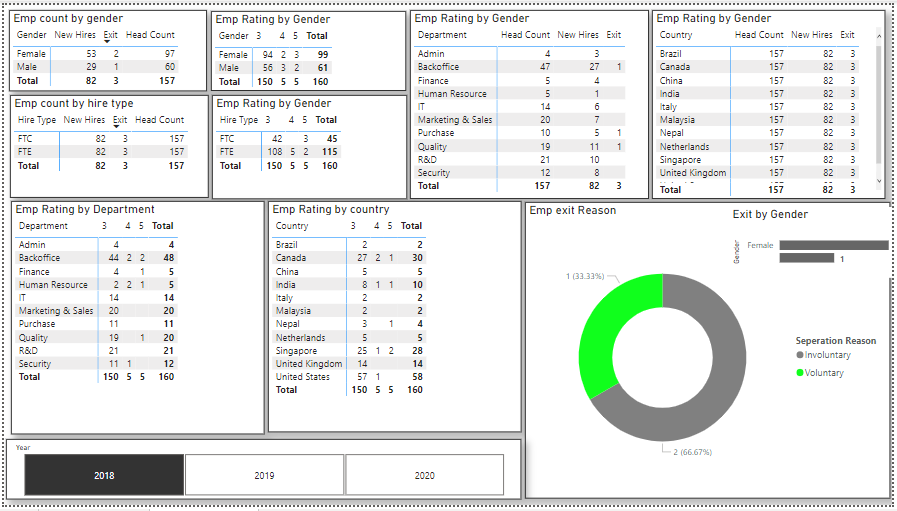

Layout of this report page (visuals, bound fields, positions):
{"tool":"powerbi","page":{"name":"other details","canvas":[1280,720],"ordinal":2},"visuals":[{"type":"pivotTable","title":"Emp count by gender","fields":{"Rows":["Employee Data.Gender"],"Values":["All Measures.New Hires","All Measures.Exit","All Measures.Head Count"]},"box":[7.2,7.2,285.1,116.6],"z":0},{"type":"donutChart","title":"Emp exit Reason","fields":{"Category":["Employee Data.Seperation Reason"],"Y":["All Measures.Exit"]},"box":[750.9,283.9,525.8,426.7],"z":0,"group":"g1"},{"type":"pivotTable","title":"Emp count by hire type","fields":{"Values":["All Measures.New Hires","All Measures.Exit","All Measures.Head Count"],"Rows":["Compensation Data.Hire Type"]},"box":[8.4,129.3,285.6,147.8],"z":1000},{"type":"barChart","fields":{"Category":["Employee Data.Gender"],"Y":["All Measures.Exit"]},"box":[1033.1,292.5,234.7,102.2],"z":1000,"group":"g1"},{"type":"pivotTable","title":"Emp Rating by Gender","fields":{"Rows":["Compensation Data.Gender"],"Columns":["Compensation Data.Employee Rating"],"Values":["CountNonNull(Compensation Data.Emp Id)"]},"box":[298.1,8.6,280.8,115.2],"z":2000},{"type":"pivotTable","title":"Emp Rating by Gender","fields":{"Columns":["Compensation Data.Employee Rating"],"Values":["CountNonNull(Compensation Data.Emp Id)"],"Rows":["Compensation Data.Hire Type"]},"box":[299,129.3,280.5,149.5],"z":3000},{"type":"pivotTable","title":"Emp Rating by Gender","fields":{"Rows":["Employee Data.Department"],"Values":["All Measures.Head Count","All Measures.New Hires","All Measures.Exit"]},"box":[584.6,7.2,344.2,272.2],"z":4000},{"type":"pivotTable","title":"Emp Rating by Gender","fields":{"Values":["All Measures.Head Count","All Measures.New Hires","All Measures.Exit"],"Rows":["Compensation Data.Country"]},"box":[933.1,7.2,335.5,272.2],"z":5000},{"type":"pivotTable","title":"Emp Rating by Department","fields":{"Rows":["Employee Data.Department"],"Columns":["Compensation Data.Employee Rating"],"Values":["CountNonNull(Compensation Data.Emp Id)"]},"box":[10.1,282.2,364.5,336],"z":6000},{"type":"pivotTable","title":"Emp Rating by country","fields":{"Rows":["Compensation Data.Country"],"Columns":["Compensation Data.Employee Rating"],"Values":["CountNonNull(Compensation Data.Emp Id)"]},"box":[379.6,282.2,364.5,332.6],"z":7000},{"type":"group","id":"g1","title":"Group 1","box":[750.9,283.9,525.8,426.7],"z":8000},{"type":"slicer","fields":{"Values":["Calender.Year"]},"box":[3.4,624.9,742.5,87.3],"z":9000}]}

Visuals, with their boxes in screenshot pixels (x1, y1, x2, y2), scaled from the page's 1280x720 canvas onto the 897x511 screenshot:
"Emp count by gender" pivotTable: [5,5,205,88]
"Emp exit Reason" donutChart: [526,201,895,504]
"Emp count by hire type" pivotTable: [6,92,206,197]
barChart - Employee Data.Gender x All Measures.Exit: [724,208,888,280]
"Emp Rating by Gender" pivotTable: [209,6,406,88]
"Emp Rating by Gender" pivotTable: [210,92,406,198]
"Emp Rating by Gender" pivotTable: [410,5,651,198]
"Emp Rating by Gender" pivotTable: [654,5,889,198]
"Emp Rating by Department" pivotTable: [7,200,263,439]
"Emp Rating by country" pivotTable: [266,200,521,436]
"Group 1" group: [526,201,895,504]
slicer - Calender.Year: [2,444,523,505]
